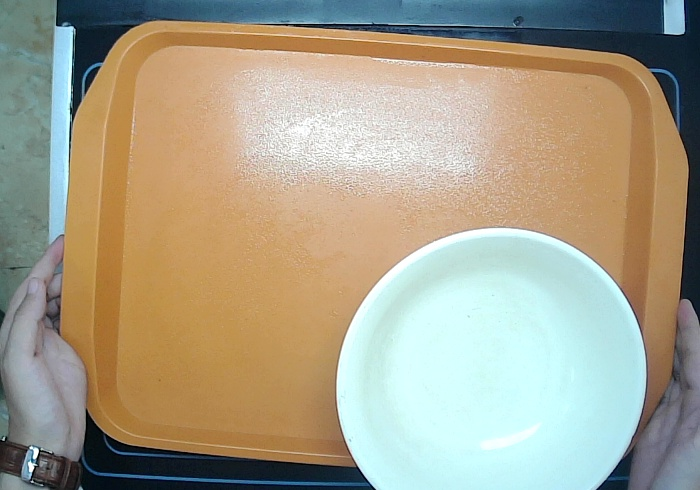ZNLD-Da_Tang_Wan: (327, 221, 652, 490)
